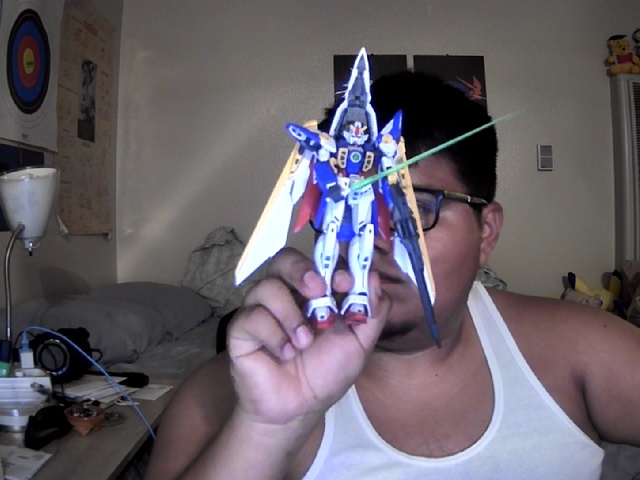Wing-01: (234, 45, 524, 349)
